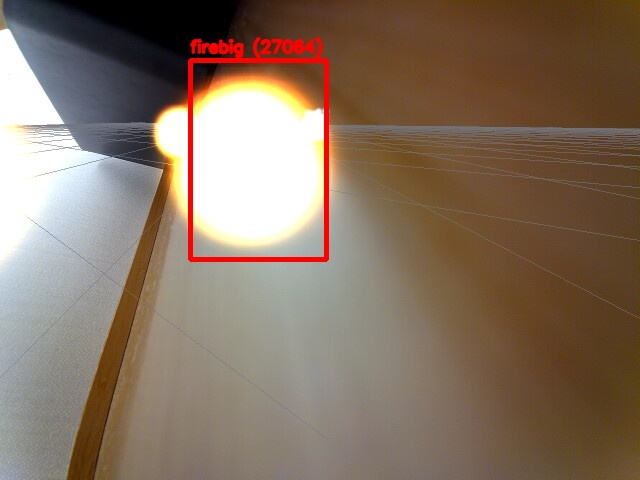firebig: (190, 60, 326, 259)
